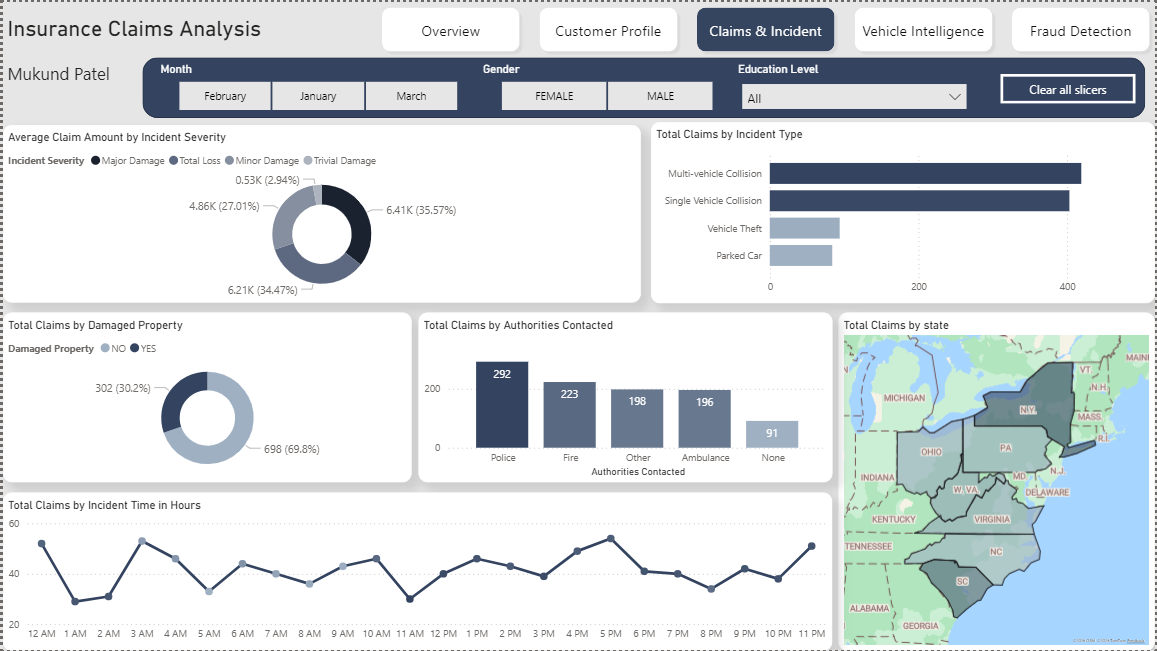

The dashboard page shown, as its layout file describes it:
{"tool":"powerbi","page":{"name":"Claims & Incident","canvas":[1280,720],"ordinal":2},"visuals":[{"type":"donutChart","fields":{"Category":["ClaimsData.incident_severity"],"Y":["_Measures.AvgClaimByIncident"]},"box":[0,137.1,708.6,197.1],"z":0},{"type":"clusteredBarChart","fields":{"Category":["ClaimsData.incident_type"],"Y":["_Measures.TotalClaims"]},"box":[720,132.9,560,201.4],"z":1000},{"type":"donutChart","fields":{"Category":["ClaimsData.property_damage"],"Y":["_Measures.TotalClaims"]},"box":[0,344.3,454.3,188.6],"z":2000},{"type":"azureMap","fields":{"Category":["ClaimsData.incident_state"]},"box":[928.6,344.3,351.4,375.7],"z":3000},{"type":"clusteredColumnChart","fields":{"Category":["ClaimsData.authorities_contacted"],"Y":["_Measures.TotalClaims"]},"box":[461.4,344.3,460,188.6],"z":4000},{"type":"lineChart","fields":{"Y":["_Measures.TotalClaims"],"Category":["ClaimsData.IncidentHour_AMPM"]},"box":[0,544.3,921.4,175.7],"z":5000},{"type":"textbox","box":[0,10,414.3,44.3],"z":6000},{"type":"textbox","box":[0,61.4,261.4,35.7],"z":7000},{"type":"pageNavigator","box":[414.3,0,865.7,61.4],"z":8000},{"type":"group","id":"g1","title":"Slicers","box":[155.7,61.4,1114.3,67.1],"z":9000},{"type":"shape","box":[155.7,61.4,1114.3,67.1],"z":12000,"group":"g1"},{"type":"slicer","title":"Month","fields":{"Values":["DateTable.Month"]},"box":[170,65.7,358.6,60],"z":13000,"group":"g1"},{"type":"slicer","title":"Gender","fields":{"Values":["ClaimsData.insured_sex"]},"box":[528.6,65.7,284.3,60],"z":14000,"group":"g1"},{"type":"slicer","title":"Education Level","fields":{"Values":["ClaimsData.EducationGroup"]},"box":[812.8,65.7,268.6,55.7],"z":15000,"group":"g1"},{"type":"actionButton","box":[1108.6,80,150,32.9],"z":16000,"group":"g1"}]}

Visuals, with their boxes in screenshot pixels (x1, y1, x2, y2), scaled from the page's 1280x720 canvas onto the 1157x651 screenshot:
donutChart - ClaimsData.incident_severity x _Measures.AvgClaimByIncident: l=0, t=124, r=641, b=302
clusteredBarChart - ClaimsData.incident_type x _Measures.TotalClaims: l=651, t=120, r=1156, b=302
donutChart - ClaimsData.property_damage x _Measures.TotalClaims: l=0, t=311, r=411, b=482
azureMap - ClaimsData.incident_state: l=839, t=311, r=1156, b=650
clusteredColumnChart - ClaimsData.authorities_contacted x _Measures.TotalClaims: l=417, t=311, r=833, b=482
lineChart - _Measures.TotalClaims x ClaimsData.IncidentHour_AMPM: l=0, t=492, r=833, b=650
textbox: l=0, t=9, r=374, b=49
textbox: l=0, t=56, r=236, b=88
pageNavigator: l=374, t=0, r=1156, b=56
"Slicers" group: l=141, t=56, r=1148, b=116
shape: l=141, t=56, r=1148, b=116
"Month" slicer: l=154, t=59, r=478, b=114
"Gender" slicer: l=478, t=59, r=735, b=114
"Education Level" slicer: l=735, t=59, r=977, b=110
actionButton: l=1002, t=72, r=1138, b=102
